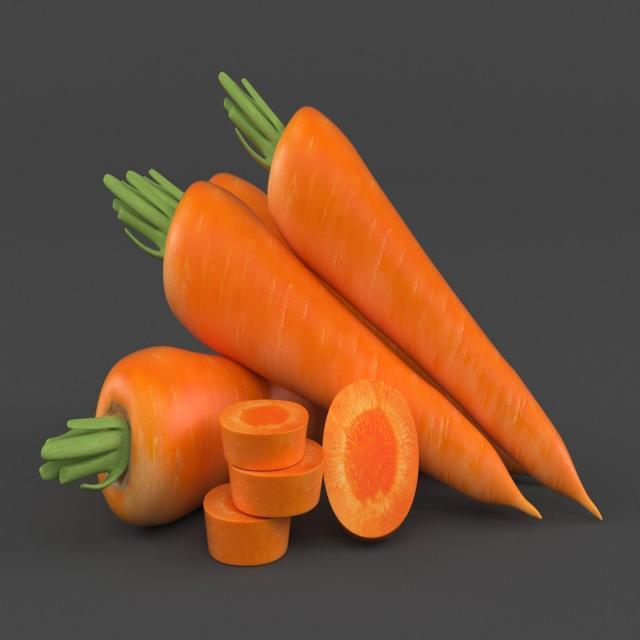carrot: (263, 106, 605, 531), (160, 174, 547, 531), (98, 341, 304, 530)
